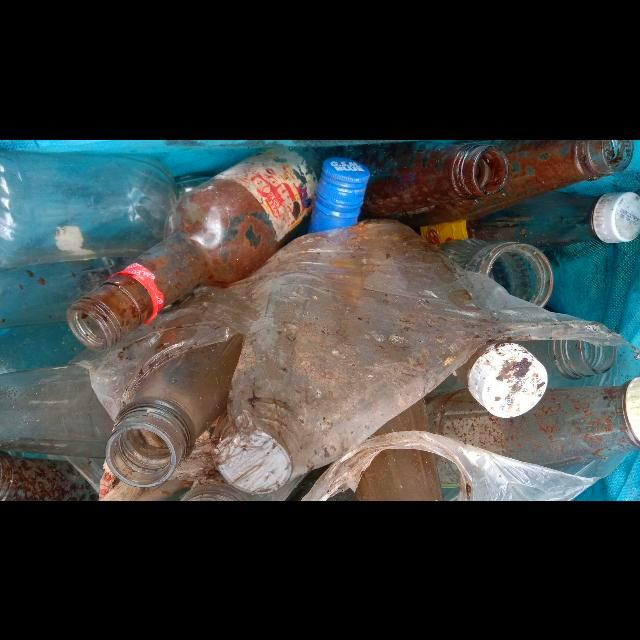glass_bottle: (65, 147, 314, 347), (105, 333, 244, 488), (390, 139, 624, 229), (425, 376, 640, 467), (420, 192, 640, 248), (352, 143, 508, 218), (0, 365, 114, 458), (342, 399, 443, 501), (438, 238, 555, 307), (464, 342, 551, 420), (515, 339, 617, 379)
